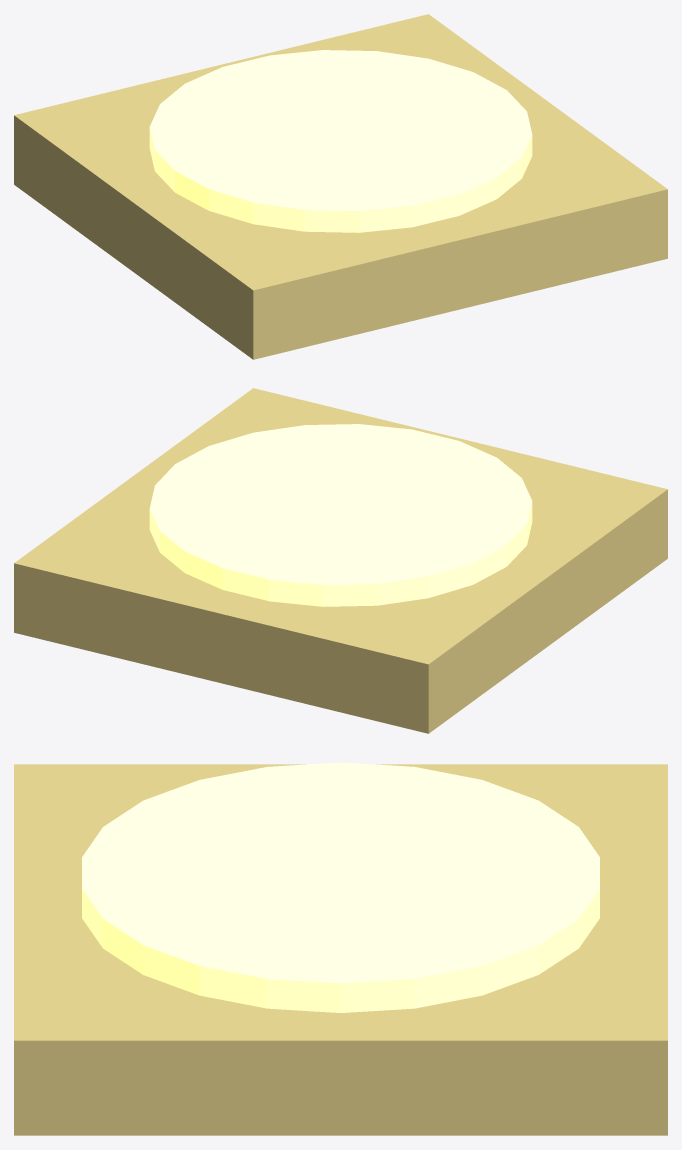
Rendered from TimedPulse_Thin.glb.
3 renders of one model, top to bottom at view 1: azimuth 30°, elevation 25°; view 2: azimuth 150°, elevation 25°; view 3: azimuth 270°, elevation 25°, orthographic. The views are drawn at different scales.
Visible parts, largest first — view 1: TimedPulse_Thin_body, glow_disc.009; view 2: TimedPulse_Thin_body, glow_disc.009; view 3: TimedPulse_Thin_body, glow_disc.009.
Boxes of the visible parts, x1,y1,x2,y2 form: TimedPulse_Thin_body: [14, 14, 667, 359]; glow_disc.009: [149, 50, 532, 232]; TimedPulse_Thin_body: [14, 388, 667, 733]; glow_disc.009: [149, 424, 532, 606]; TimedPulse_Thin_body: [14, 764, 667, 1135]; glow_disc.009: [82, 762, 599, 1012].
Bounding box in the file's own units: 1 × 0.21 × 1.
